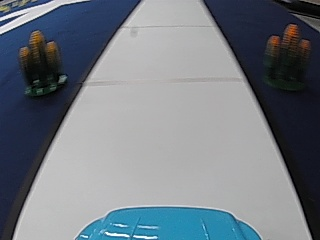corn: (264, 20, 310, 91), (18, 27, 63, 99)
